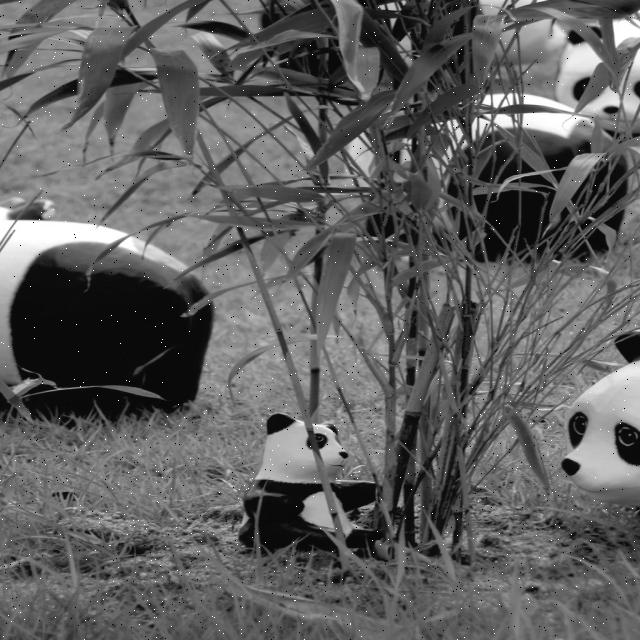panda: (338, 84, 624, 266), (0, 212, 223, 420), (236, 412, 387, 555), (565, 329, 639, 512), (546, 17, 639, 142)
